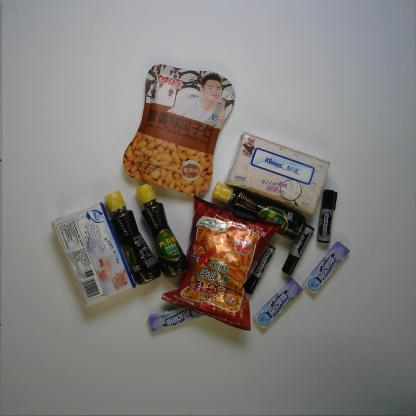Candy: (300, 240, 352, 298), (251, 277, 305, 331), (145, 306, 210, 335)
Dried Fruit: (120, 61, 237, 201)
Puffed Food: (159, 190, 285, 333)
Seasoner: (208, 179, 308, 242), (101, 188, 162, 288), (133, 181, 190, 280)
Stationery: (280, 222, 317, 277), (241, 244, 277, 296), (315, 186, 339, 246)
Tissue: (49, 200, 139, 310), (223, 130, 332, 217)
